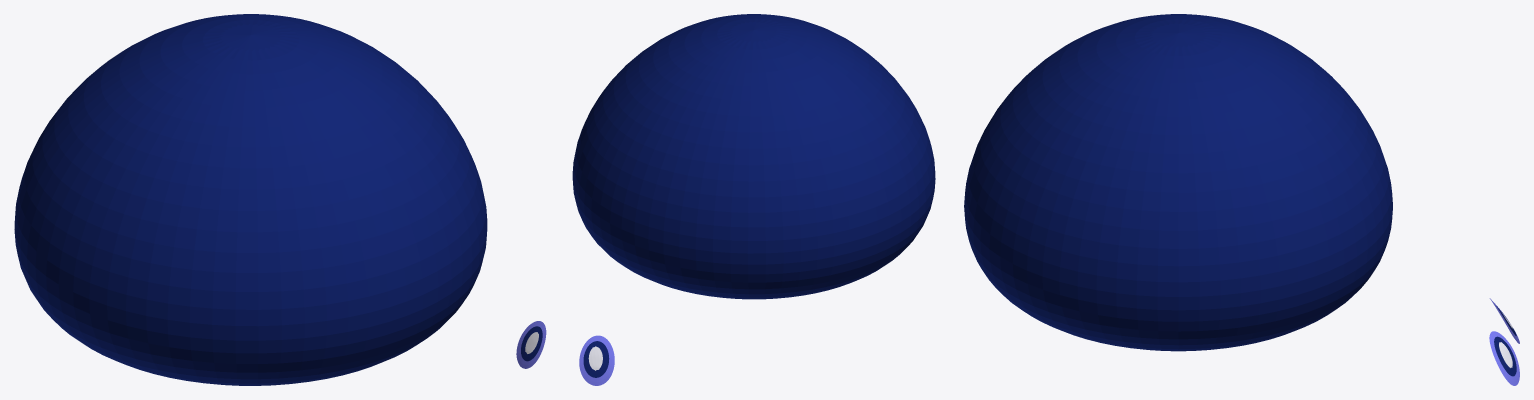
Rendered from Slime.fbx.
3 views of the same model, side by side, from view 1: azimuth 30°, elevation 25°; view 2: azimuth 150°, elevation 25°; view 3: azimuth 270°, elevation 25° (orthographic). The views are drawn at different scales.
Visible parts, largest first — view 1: Sphere; view 2: Sphere, Circle; view 3: Sphere, Circle.
Part boxes in pixels (x1,y1,x2,y2): Sphere: (14, 14, 487, 385); Sphere: (572, 14, 935, 299); Circle: (516, 321, 614, 385); Sphere: (964, 14, 1392, 351); Circle: (1489, 298, 1519, 385).
Bounding box in the file's own units: 197 × 153 × 256.
